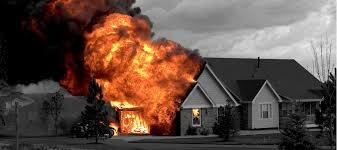fire: (54, 9, 201, 137)
